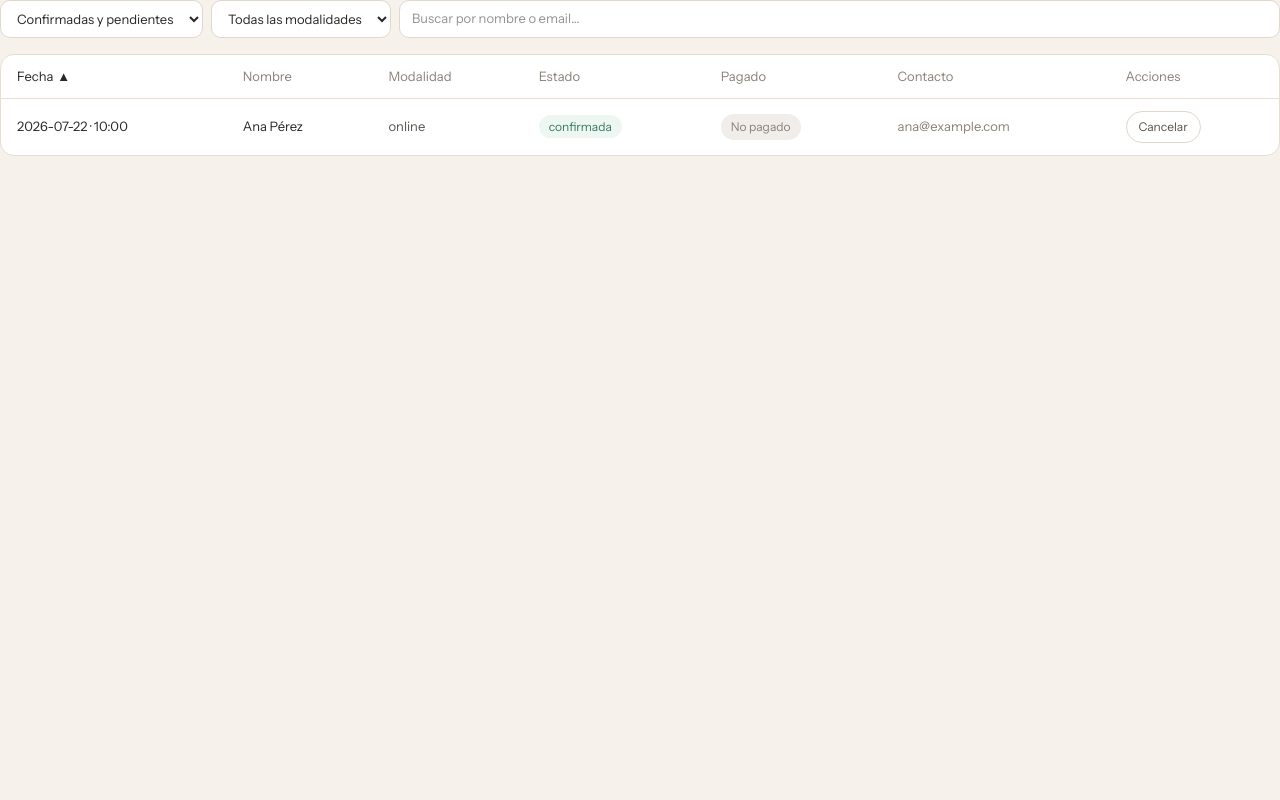
Test case: CitasTabla — detalle al clickear la fila › click en la fila abre el modal de detalle de esa cita
Expected: the button "Reagendar" is not shown
Click the text "Ana Pérez".
click(52, 126)  # box [1, 98, 1279, 155]
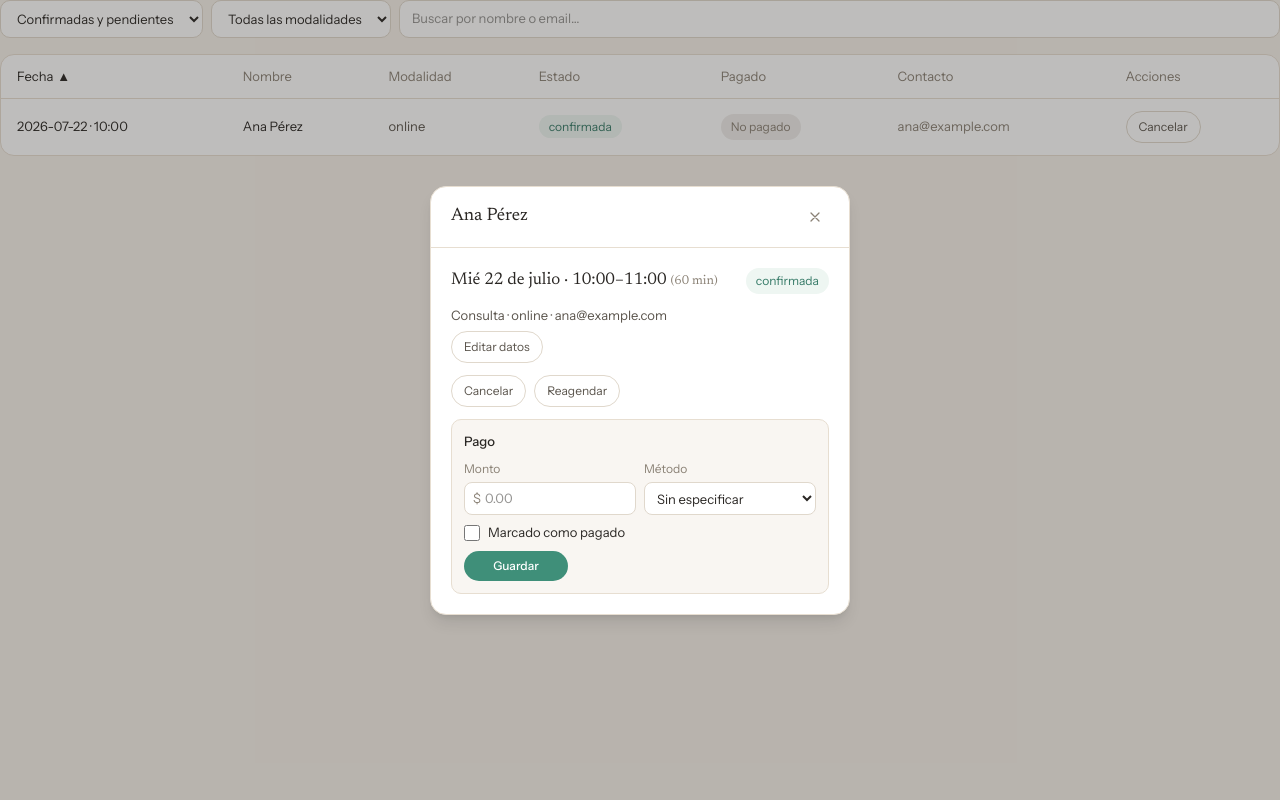
Expected: the button "Reagendar" is shown, [534, 375, 620, 407]
Expected: the heading "Ana Pérez" is shown, [451, 203, 528, 230]
